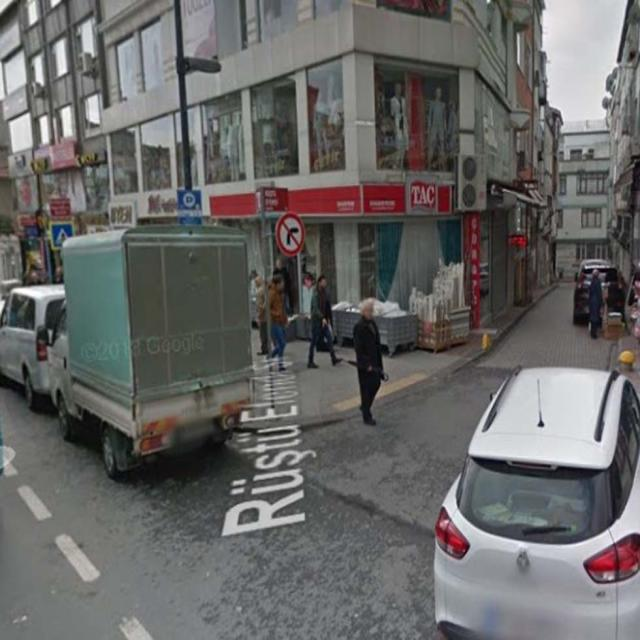sagadonulmez: (276, 212, 305, 256)
